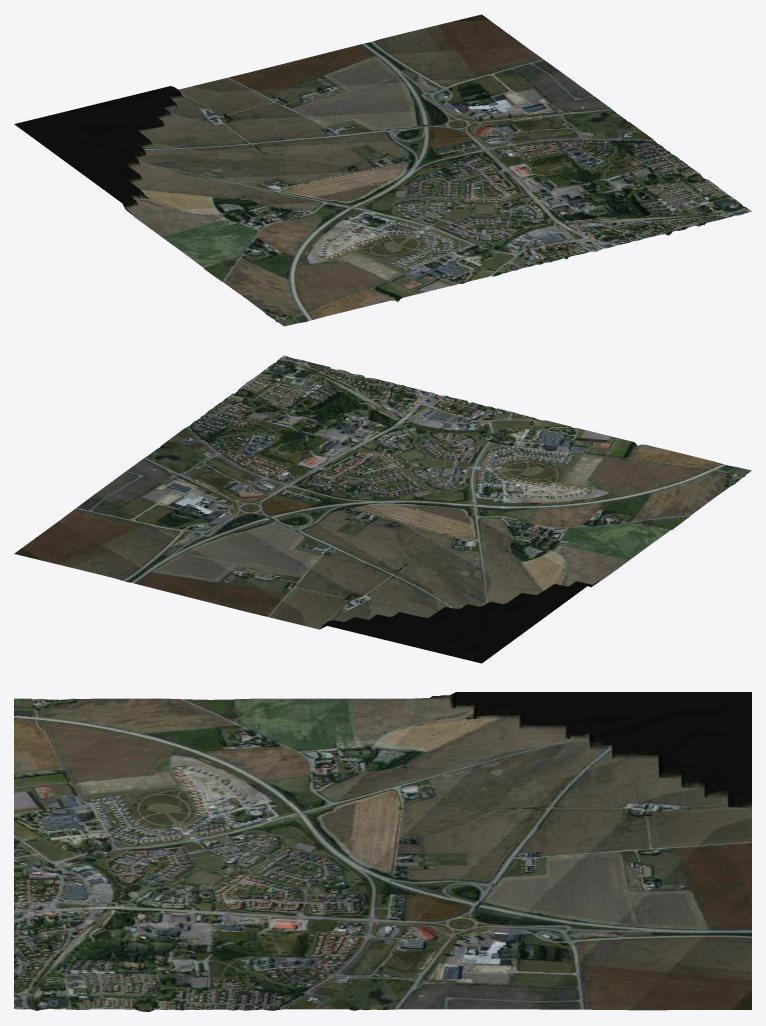
Rendered from map_10_252_432.dae.
The picture shows the model from 3 angles, top to bottom: view 1: azimuth 30°, elevation 25°; view 2: azimuth 150°, elevation 25°; view 3: azimuth 270°, elevation 25°; orthographic projection. The views are drawn at different scales.
Visible parts, largest first — view 1: Ter0; view 2: Ter0; view 3: Ter0.
Boxes of the visible parts, x1,y1,x2,y2 form: Ter0: (14,14,751,326); Ter0: (14,355,751,663); Ter0: (14,692,751,1011).
Bounding box in the file's own units: 2044 × 2044 × 41.98.
3 materials, 3 textured.
